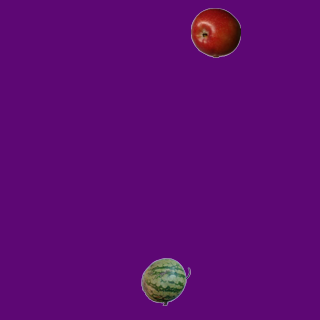Apple Braeburn: (190, 7, 240, 57)
Watermelon: (140, 256, 190, 306)
